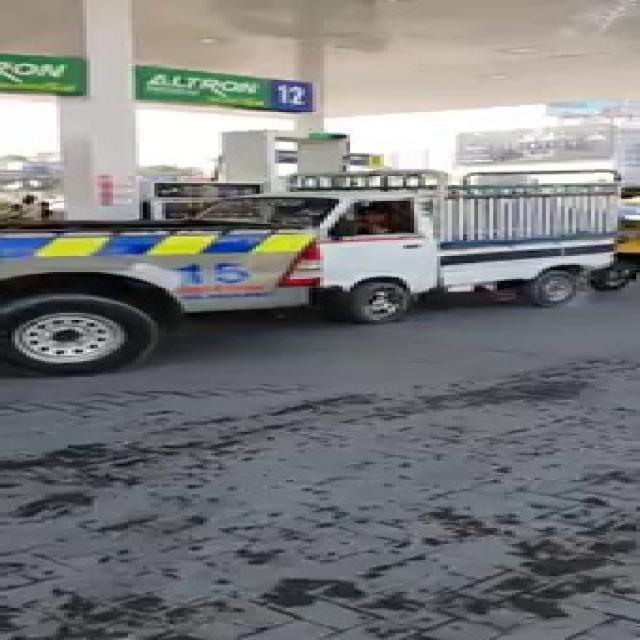police: (0, 168, 388, 406)
